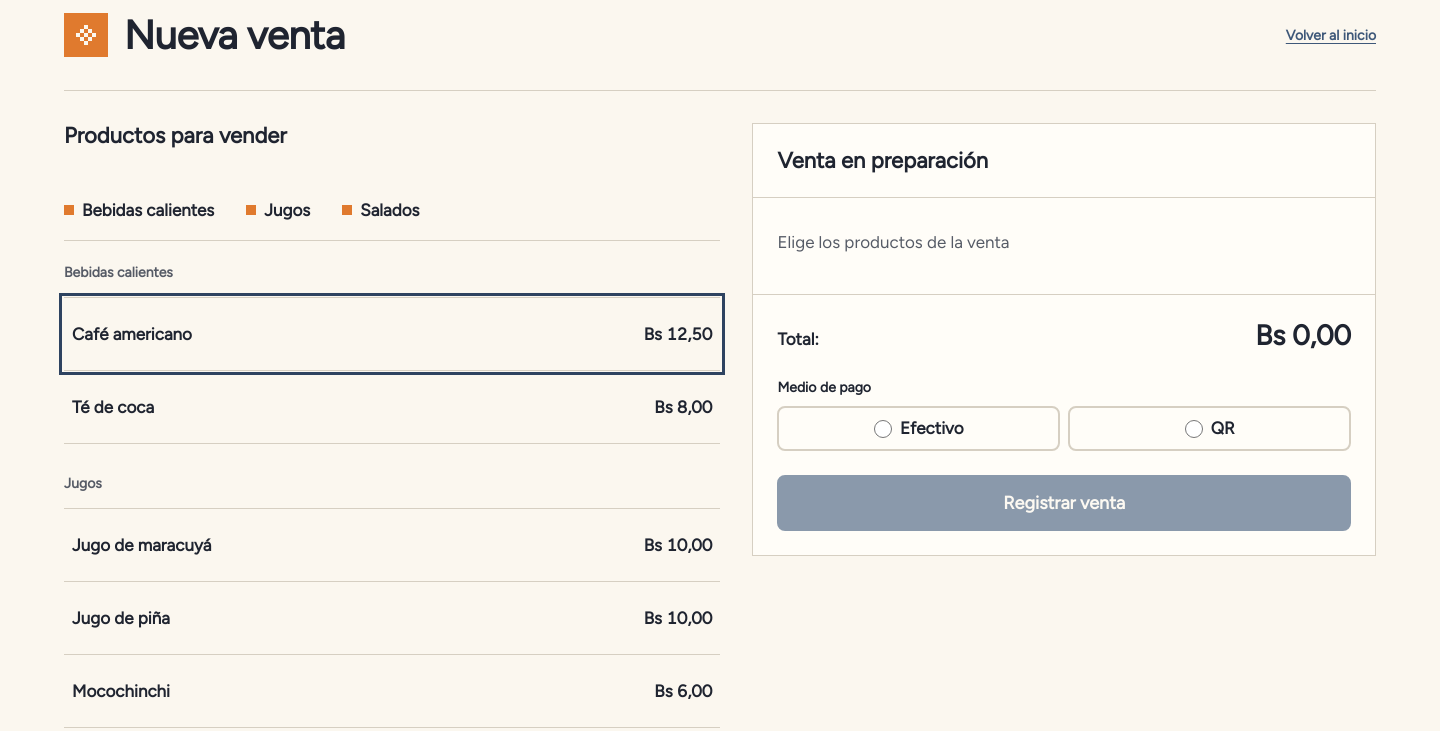
it: registrar la venta (RF-6 a RF-9, RNF-4) › registra con QR y muestra la confirmación hasta agregar otro producto
expect the button "Registrar venta" is disabled: met, box [777,475,1351,531]
expect the radio button labelled "Efectivo" is not checked: met, box [874,420,892,438]
Press Enter
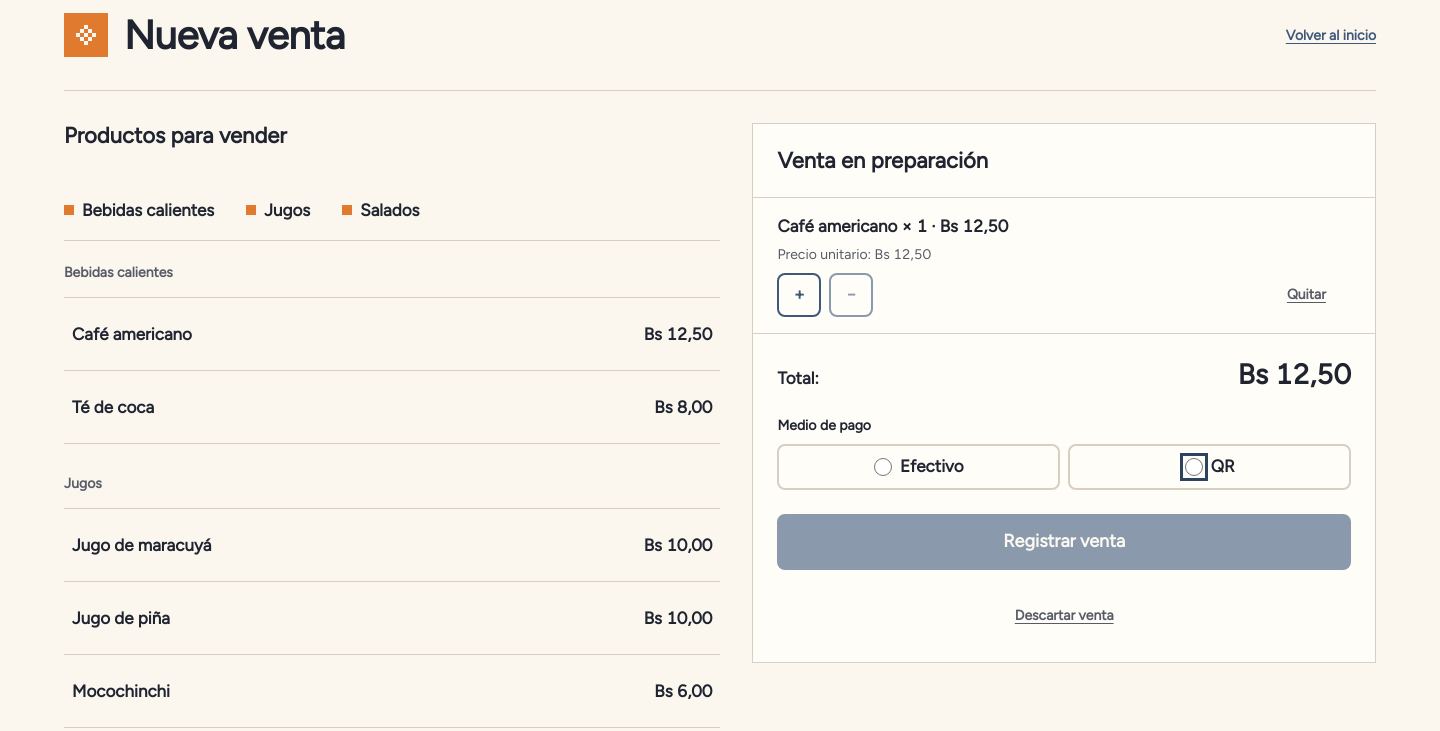
expect the button "Registrar venta" is disabled: met, box [777,514,1351,570]
Type keys " "
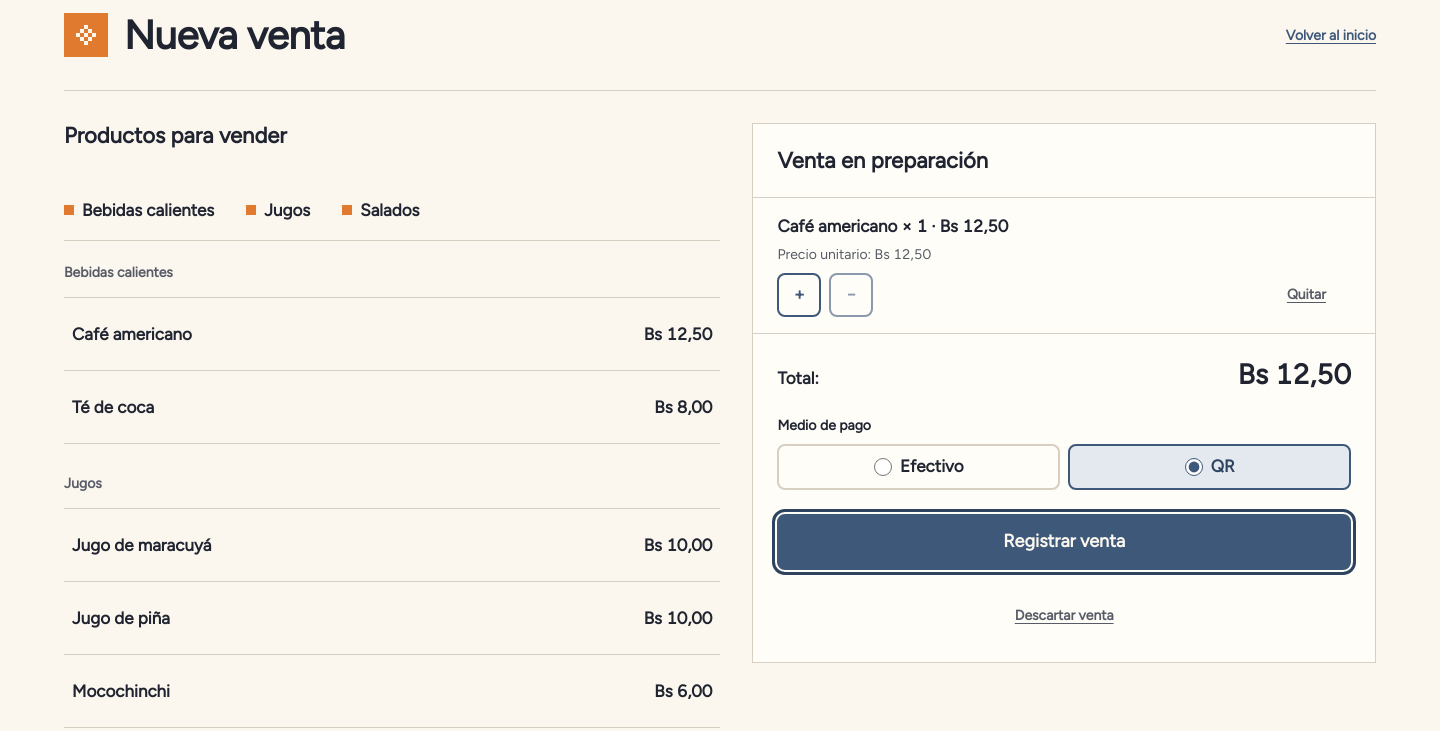
Press Enter
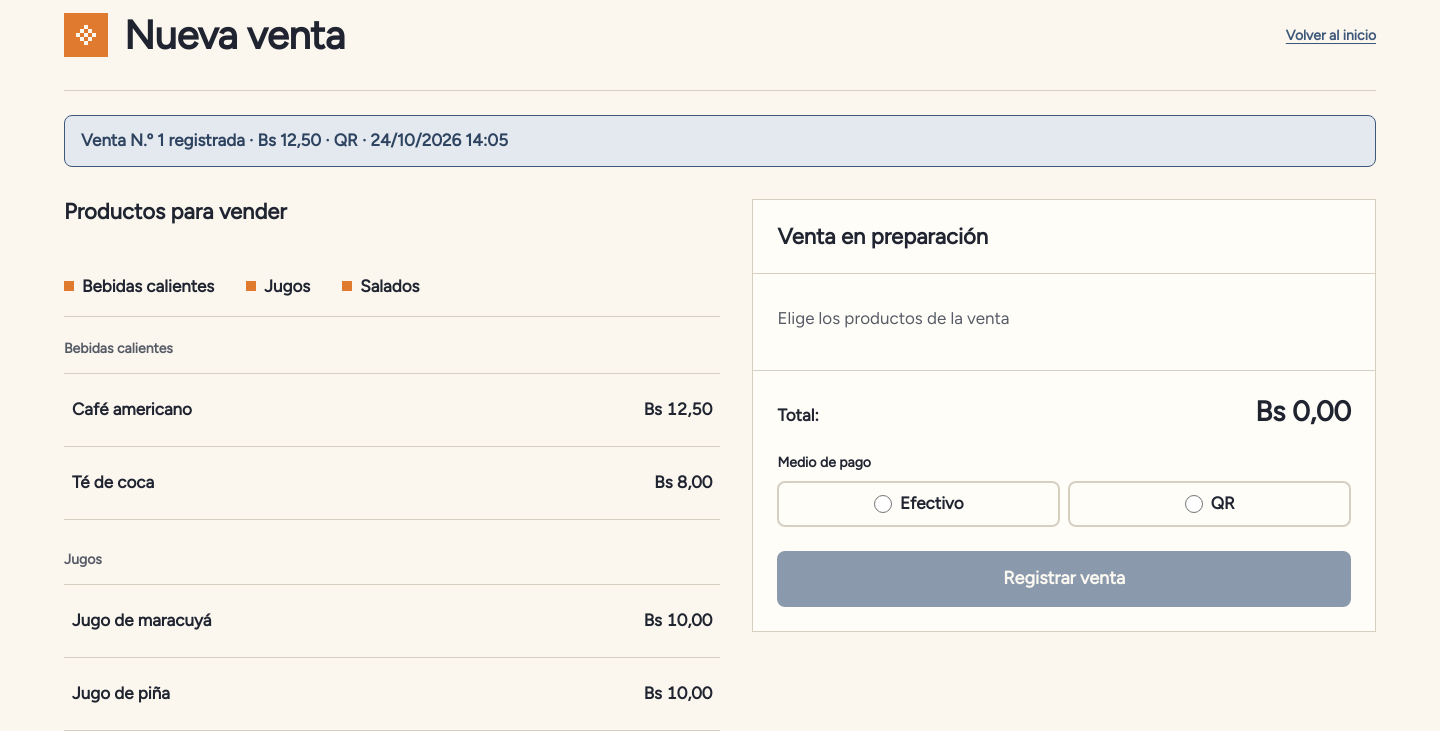
expect the text "Elige los productos de la venta" is shown: met, box [777,308,1010,328]
expect the radio button labelled "QR" is not checked: met, box [1185,495,1203,513]
Click the button with aria-label "Café americano · Bs 12,50". click: (132, 409)
box: [64,374,720,446]
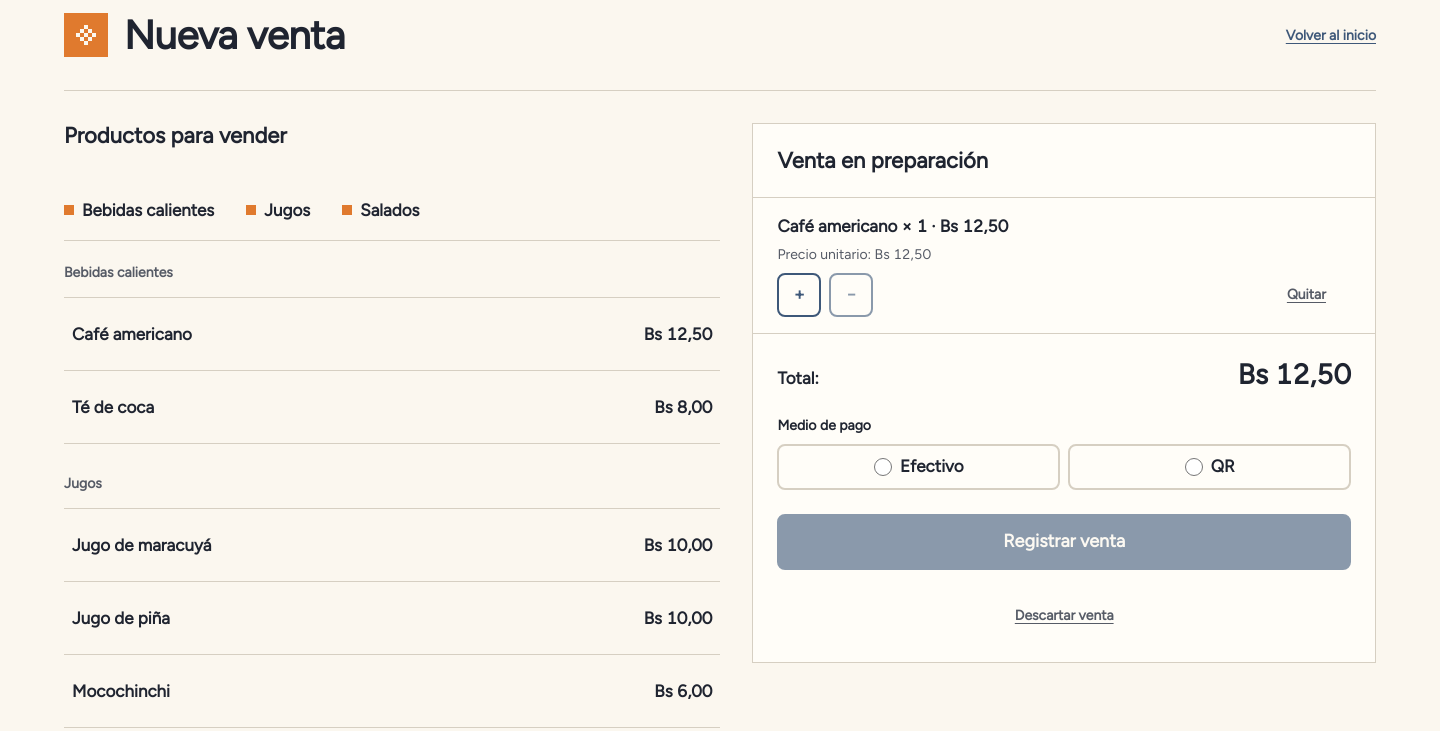
expect the text "Venta N.º 1 registrada" is gone: met
Click the radio button labelled "QR". click: (1194, 467)
box: [1185,458,1203,476]
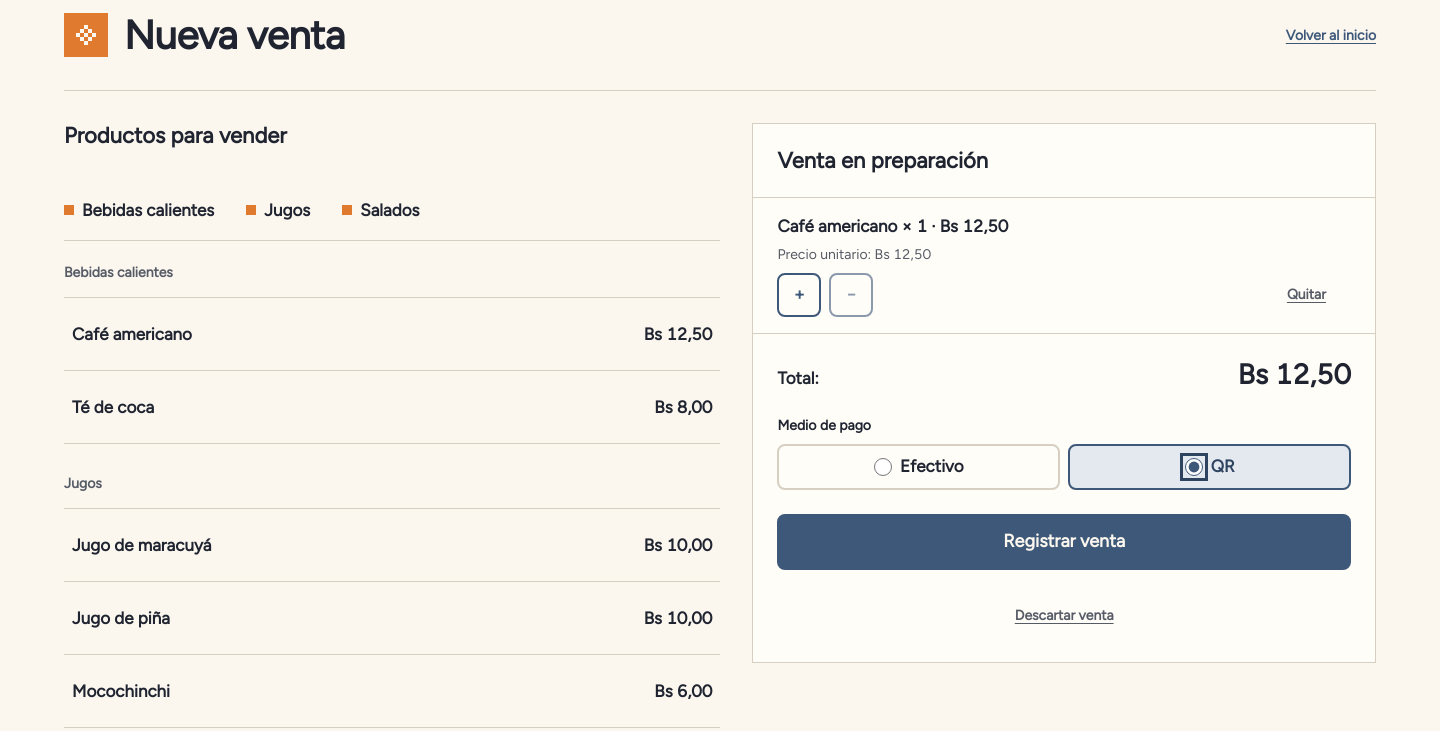
Click the button "Registrar venta". click: (1064, 542)
box: [777,514,1351,570]
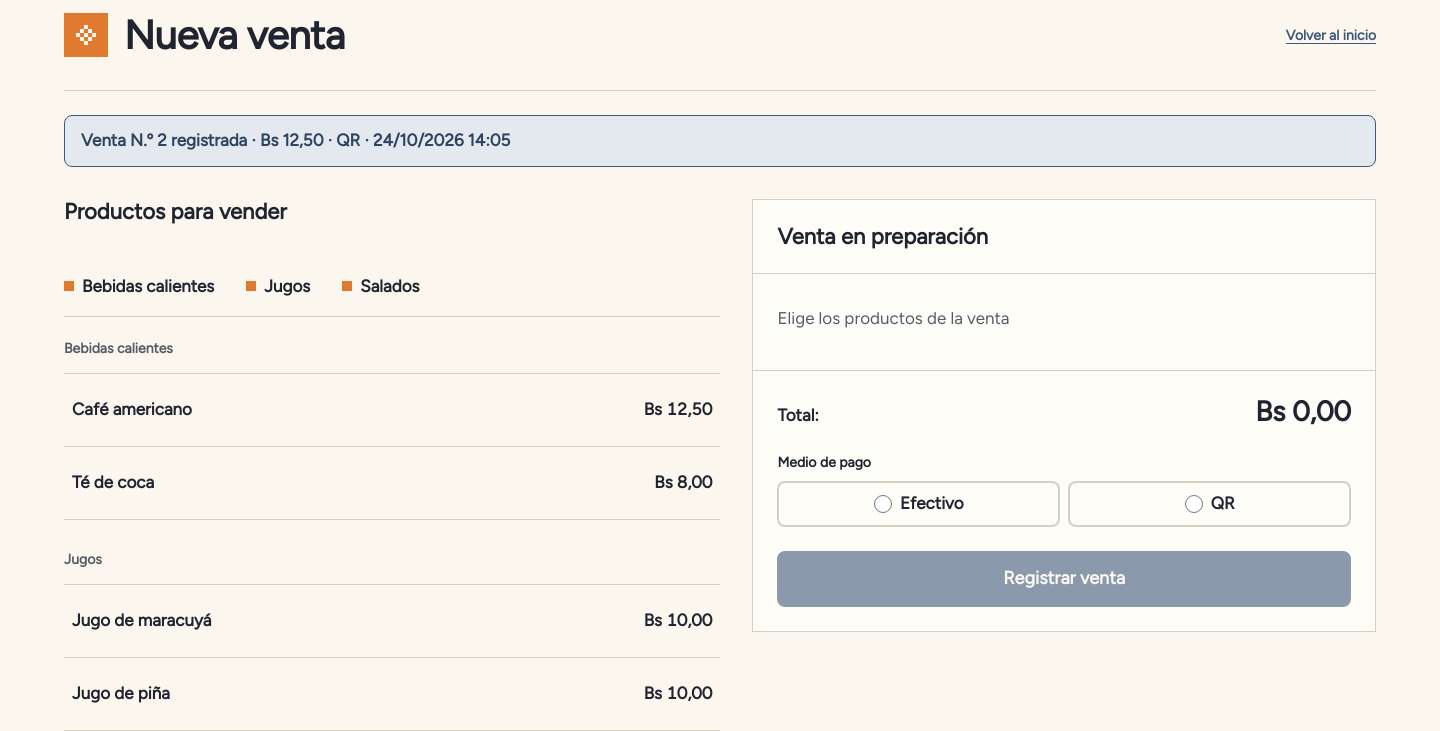
expect the text "Venta N.º 2 registrada · Bs 12,50 · QR · 24/10/2026 14:05" is shown: met, box [64,115,1376,166]
